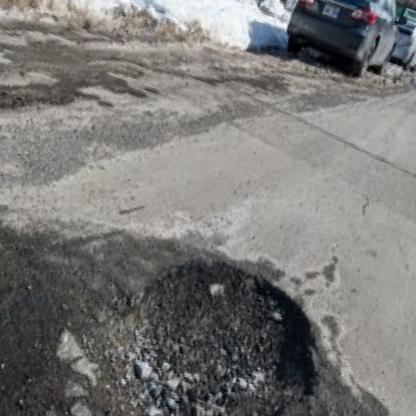pothole: (74, 229, 343, 416)
